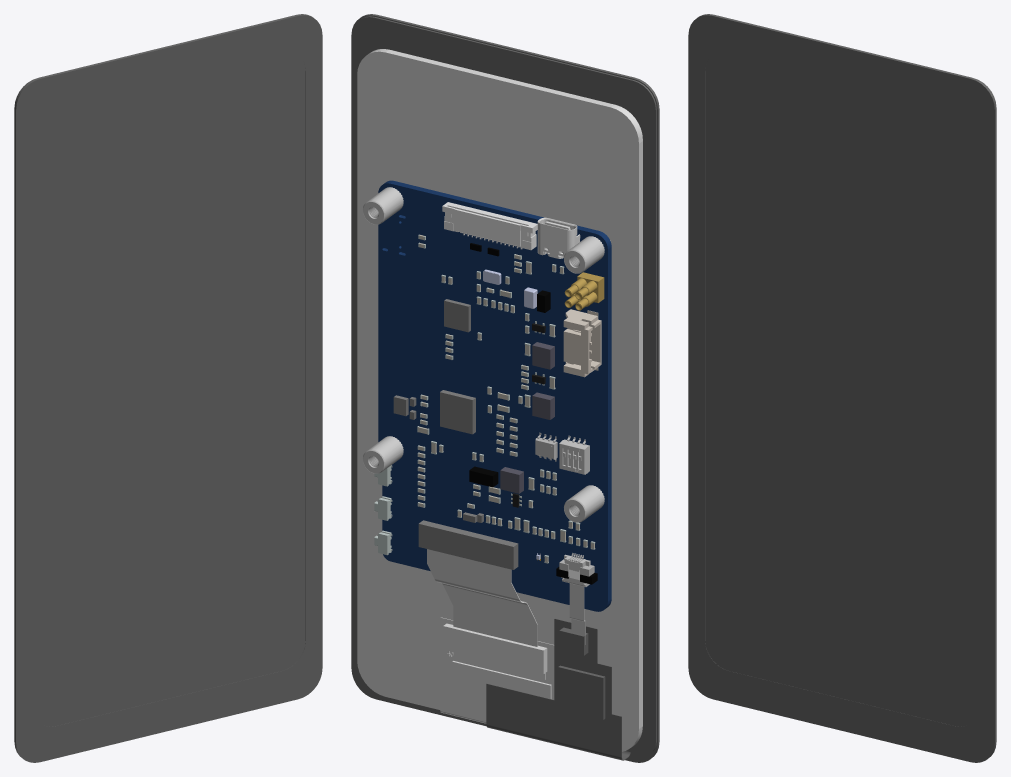
Rendered from result.gltf.
3 renders of one model, left to right at view 1: azimuth 30°, elevation 25°; view 2: azimuth 150°, elevation 25°; view 3: azimuth 330°, elevation 25°, orthographic.
Visible parts, largest first — view 1: empty_3; view 2: empty_2, empty_16, empty_3, empty_370, empty_363, empty_8, empty_10, empty_368, empty_44, empty_9, empty_4, empty_5 (+9 smaller); view 3: empty_3.
Boxes of the visible parts, x1=… form: empty_3: x1=14, y1=14, x2=322, y2=762; empty_2: x1=357, y1=49, x2=642, y2=751; empty_16: x1=378, y1=180, x2=611, y2=611; empty_3: x1=351, y1=14, x2=659, y2=762; empty_370: x1=427, y1=549, x2=537, y2=646; empty_363: x1=418, y1=520, x2=518, y2=569; empty_8: x1=442, y1=202, x2=537, y2=250; empty_10: x1=563, y1=309, x2=601, y2=377; empty_368: x1=537, y1=217, x2=580, y2=258; empty_44: x1=440, y1=390, x2=475, y2=434; empty_9: x1=564, y1=272, x2=604, y2=310; empty_4: x1=363, y1=436, x2=403, y2=473; empty_5: x1=363, y1=187, x2=403, y2=224; empty_3: x1=688, y1=14, x2=996, y2=762.
Size of the model in its own units: 74.7 by 159 by 14.1.
